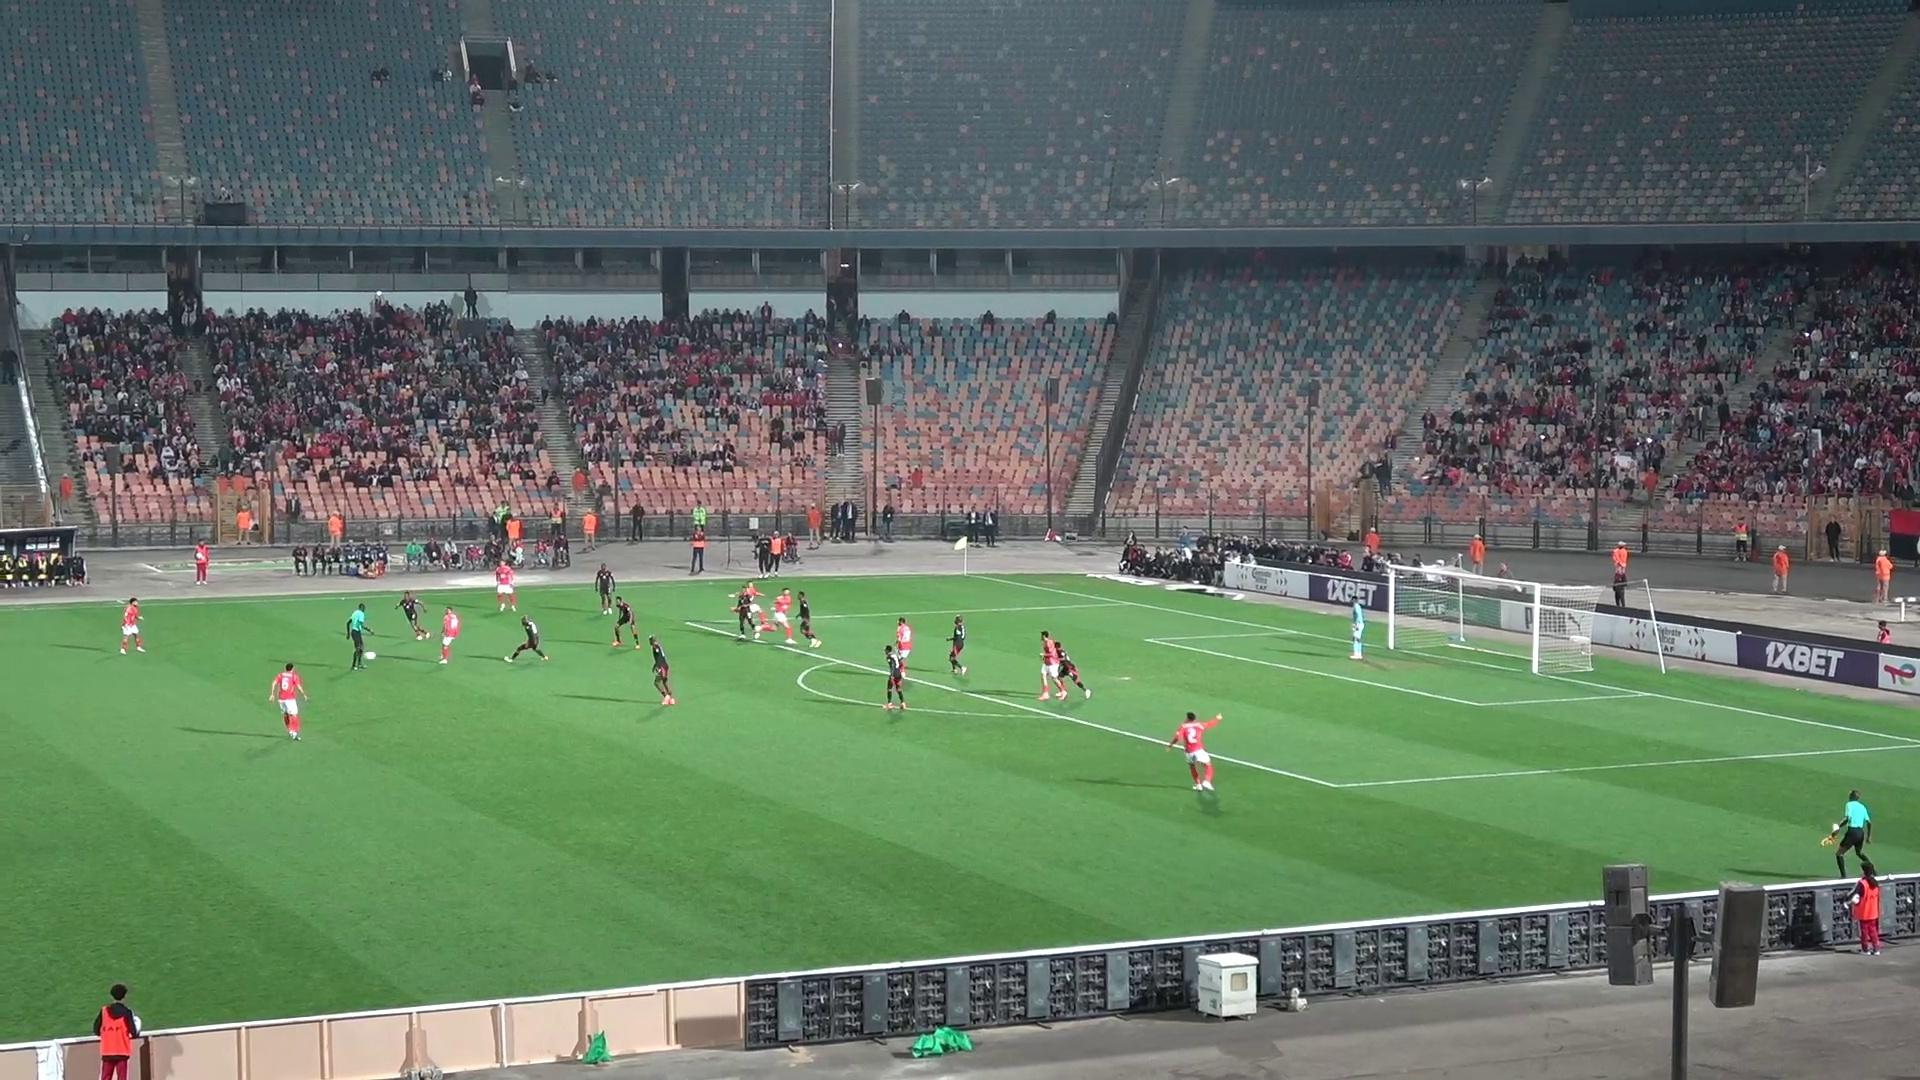Ball: (361, 649, 377, 661)
GK2: (1348, 597, 1367, 661)
Refree: (1818, 790, 1873, 877), (344, 604, 368, 670)
Team1: (1164, 712, 1221, 793), (266, 665, 307, 738), (1036, 630, 1067, 700), (761, 588, 794, 644), (117, 597, 146, 655), (436, 607, 462, 665), (891, 616, 914, 675), (495, 559, 517, 611)
Team2: (638, 636, 676, 705), (502, 615, 549, 663), (1054, 640, 1091, 698), (881, 644, 907, 712), (396, 589, 431, 640), (605, 596, 640, 647), (794, 589, 822, 647), (731, 582, 757, 640), (592, 563, 616, 616), (948, 615, 967, 676)
